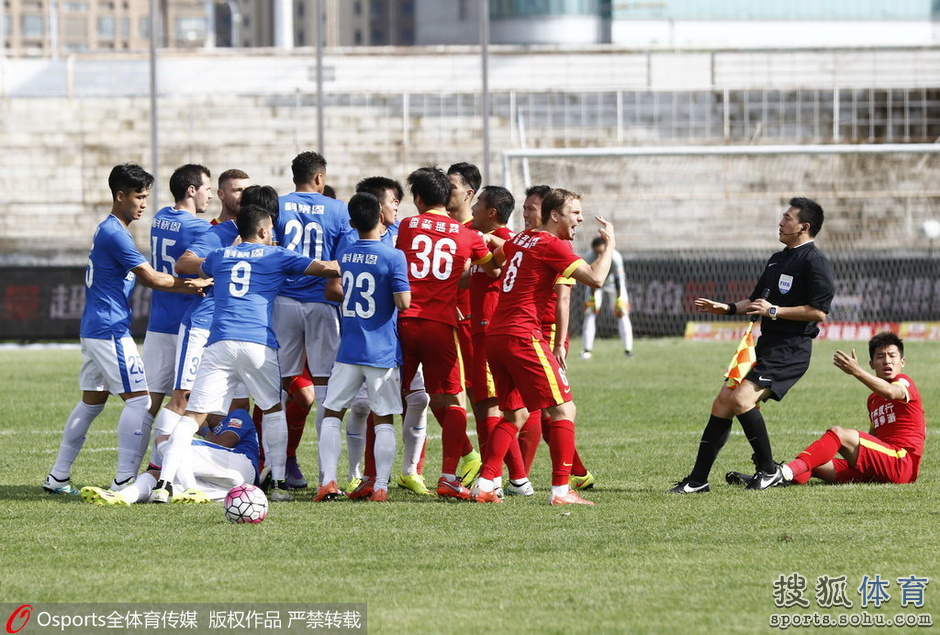fall: (72, 381, 280, 515)
